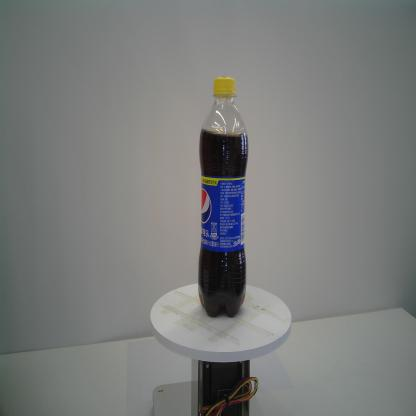Drink: (195, 75, 251, 321)
